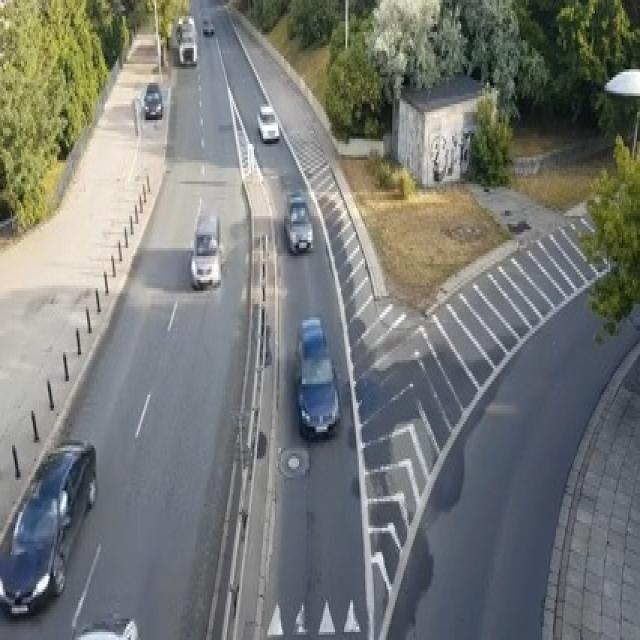car: (0, 437, 96, 619), (294, 315, 340, 437), (190, 211, 222, 288), (282, 192, 312, 253), (69, 614, 138, 638), (257, 104, 279, 141), (143, 83, 162, 117), (177, 35, 197, 64), (176, 13, 195, 43), (202, 16, 214, 35)
truck: (171, 13, 197, 67)
